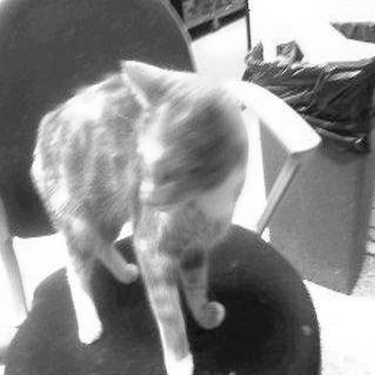cat: (23, 43, 243, 370)
